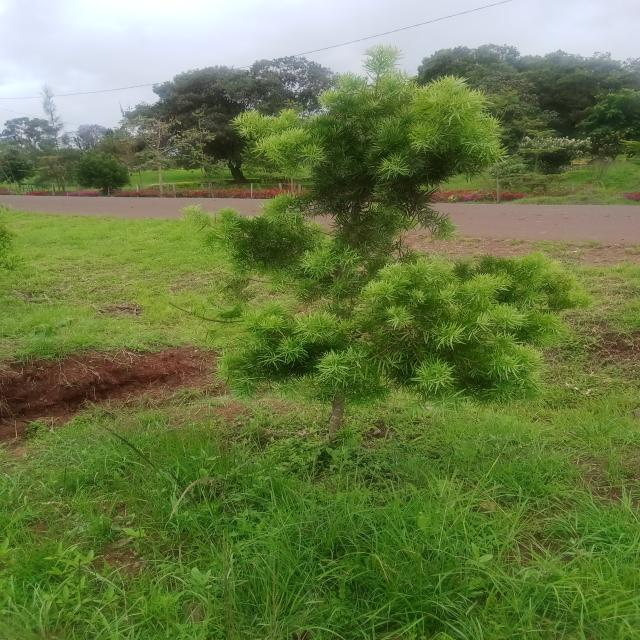Podocarpus falcatus: (194, 48, 582, 443)
